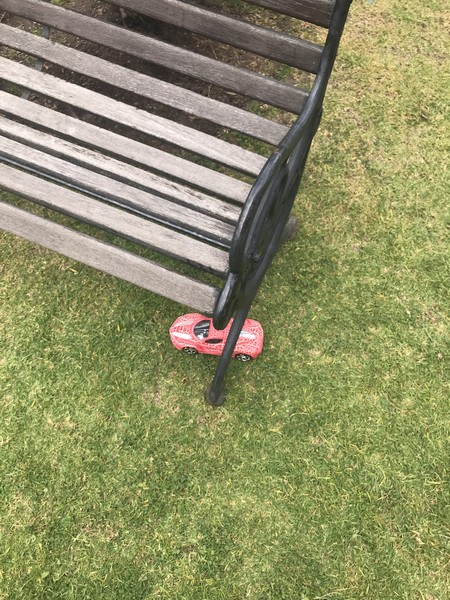RC: (167, 308, 265, 363)
